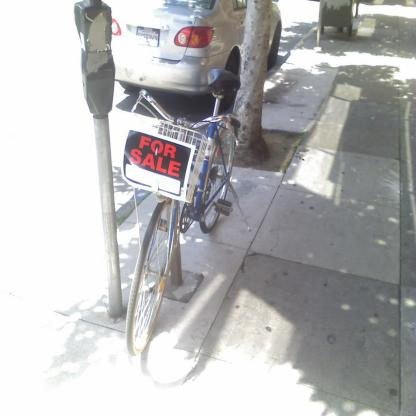Car: (112, 1, 283, 112)
